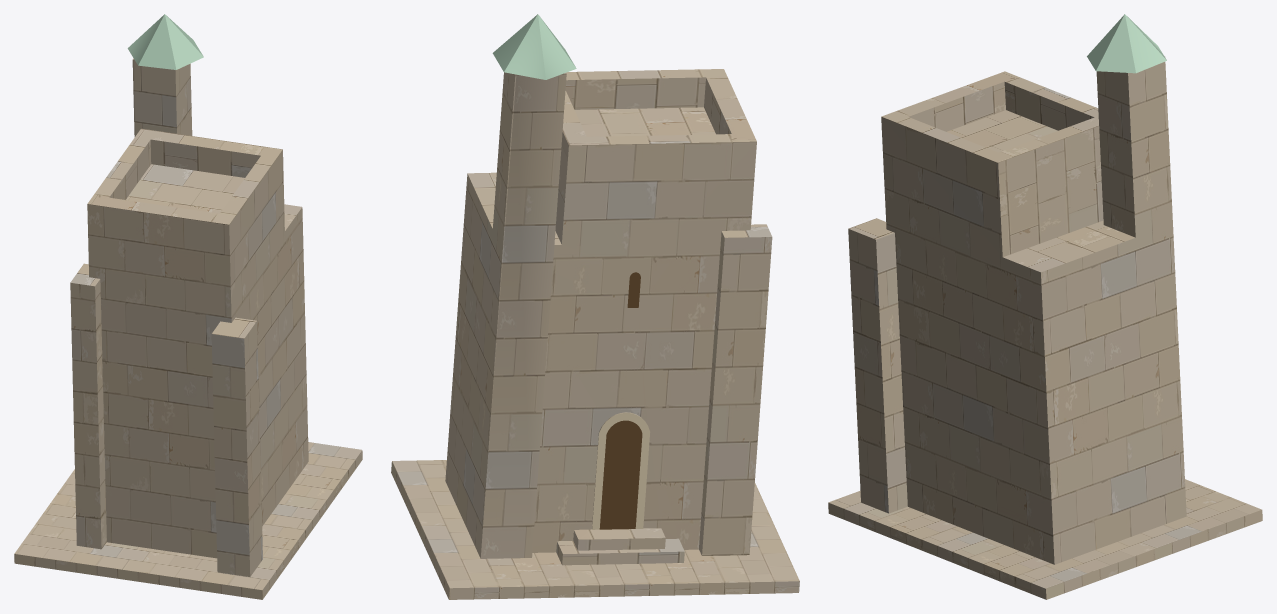
File: Tower.gltf
The picture shows the model from 3 angles, left to right: view 1: azimuth 30°, elevation 25°; view 2: azimuth 150°, elevation 25°; view 3: azimuth 270°, elevation 25°; orthographic projection. The views are drawn at different scales.
Visible parts, largest first — view 1: Mesh3_Tower1_Model, Mesh2_Tower1_Model; view 2: Mesh3_Tower1_Model, Mesh2_Tower1_Model; view 3: Mesh3_Tower1_Model, Mesh2_Tower1_Model.
Part boxes in pixels (left/top/right/bottom): Mesh3_Tower1_Model: left=70, top=14, right=308, bottom=576; Mesh2_Tower1_Model: left=14, top=442, right=362, bottom=599; Mesh3_Tower1_Model: left=445, top=14, right=772, bottom=565; Mesh2_Tower1_Model: left=391, top=460, right=799, bottom=599; Mesh3_Tower1_Model: left=848, top=14, right=1186, bottom=564; Mesh2_Tower1_Model: left=828, top=479, right=1262, bottom=599.
Bounding box in the file's own units: 92.07 × 120 × 91.06.
Materials: 4 (1 with a texture image).
